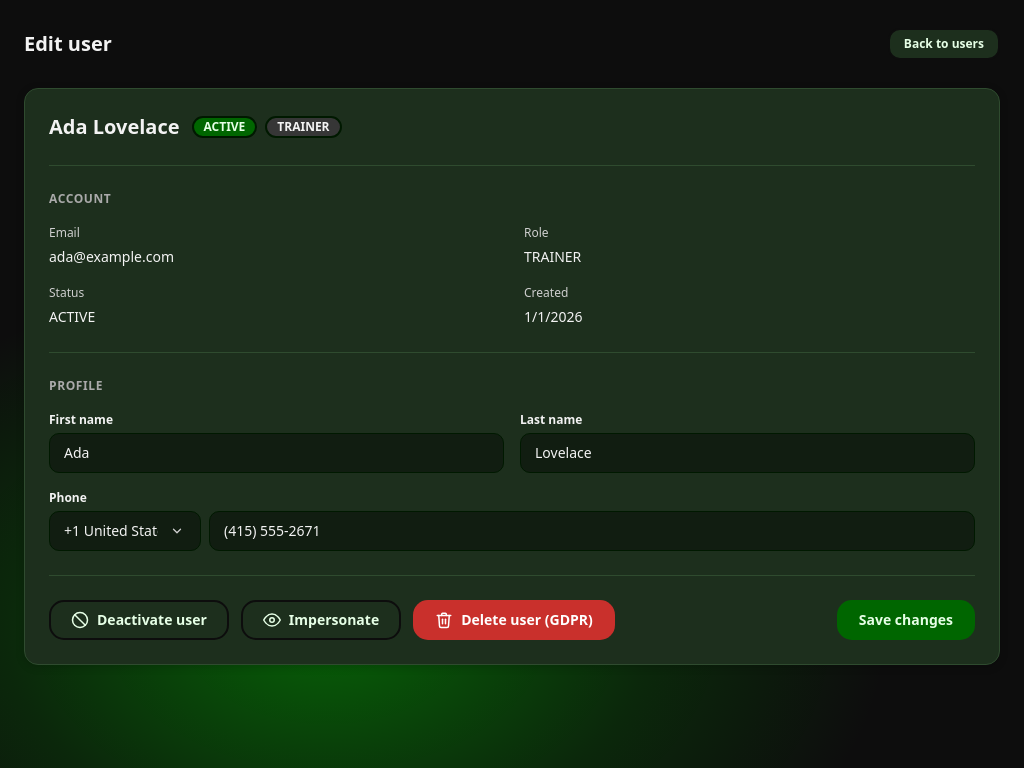
it: UserDetailPage › opens GdprDeleteConfirmModal from the Delete button
Check: the heading "Ada Lovelace" is shown, box top-left (49, 113), bottom-right (180, 141)
Click the button "Delete user (GDPR)": (514, 620) top-left (413, 600), bottom-right (615, 640)
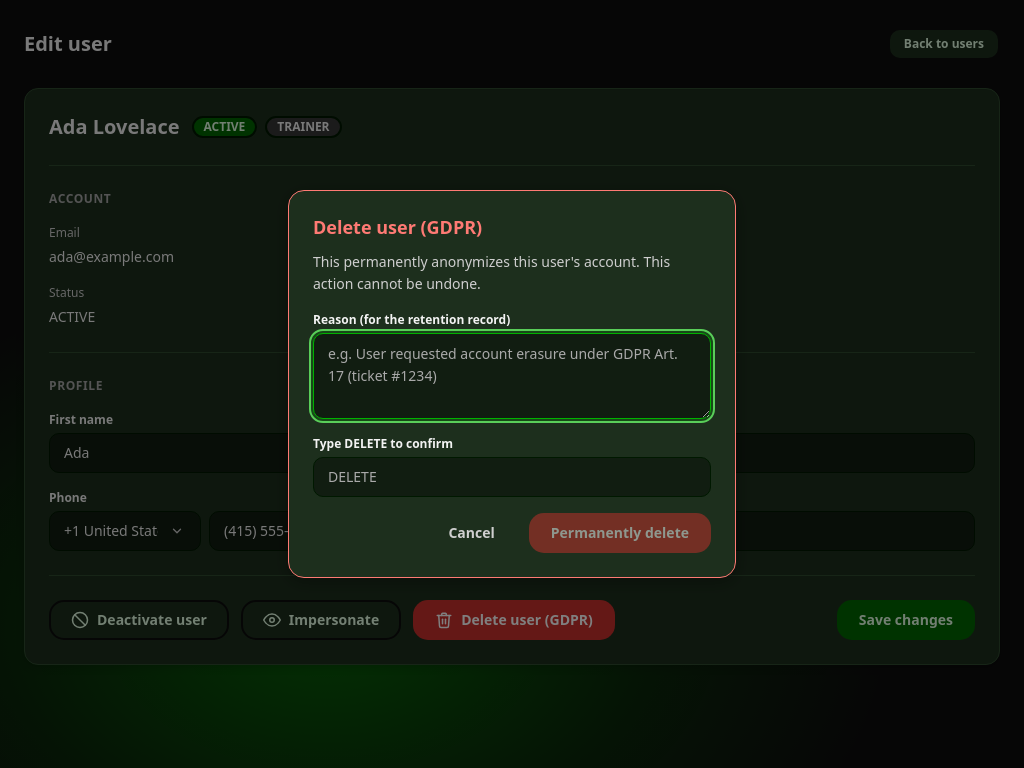
Check: the dialog "Delete user (GDPR)" is shown, box top-left (288, 190), bottom-right (736, 578)
